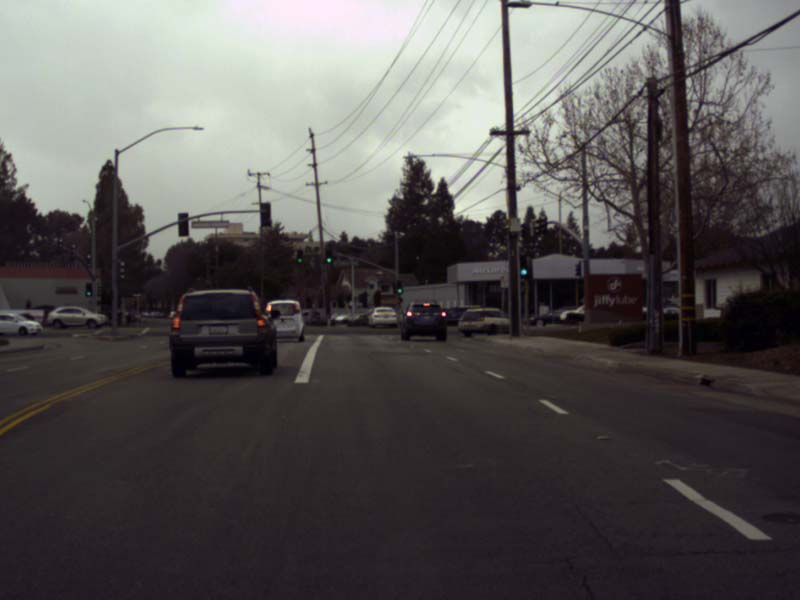Green: (519, 256, 527, 276), (325, 249, 331, 263), (396, 281, 402, 293), (86, 283, 91, 296), (297, 249, 301, 263)
